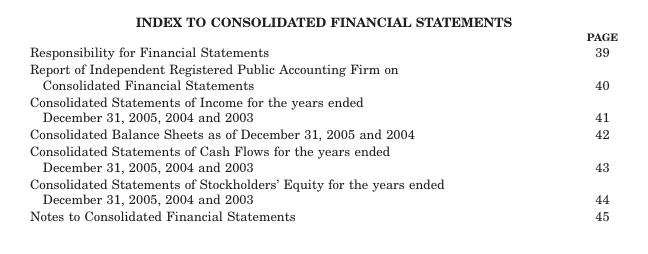table: (28, 29, 617, 223)
table column: (28, 29, 514, 223), (514, 29, 617, 223)
table column header: (28, 29, 617, 43)
table row: (28, 92, 617, 125), (28, 174, 617, 207), (28, 60, 617, 92), (28, 142, 617, 174), (28, 43, 617, 60), (28, 125, 617, 142), (28, 207, 617, 223), (28, 29, 617, 43)
